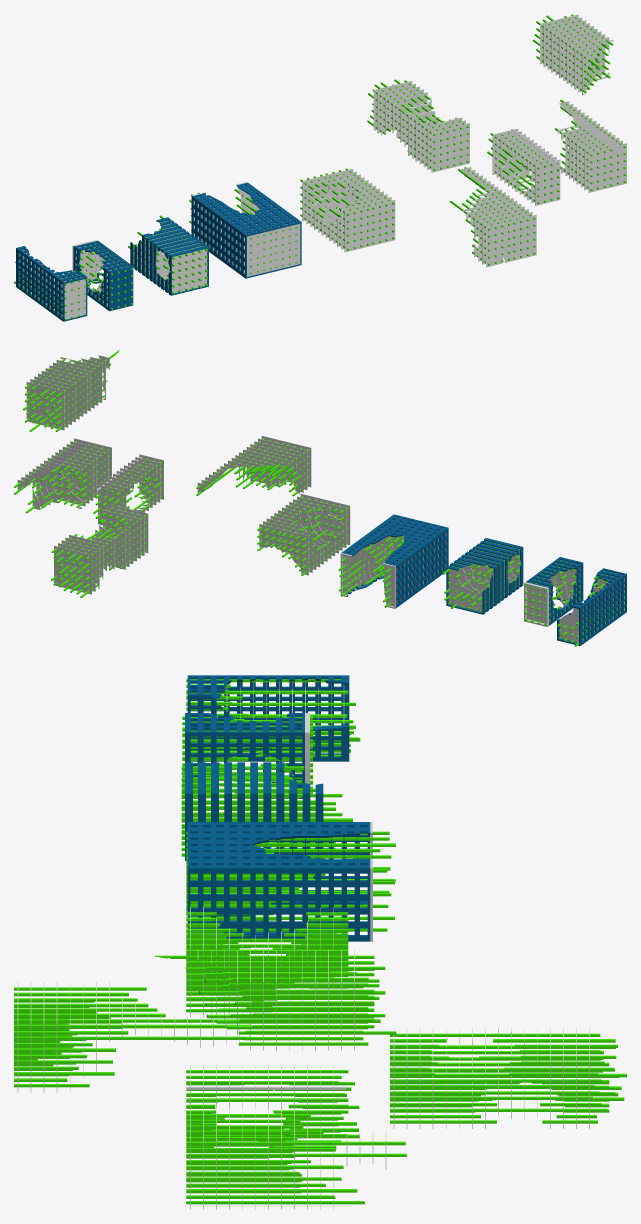
The model's file is Building Ruins.fbx.
3 renders of one model, top to bottom at view 1: azimuth 30°, elevation 25°; view 2: azimuth 150°, elevation 25°; view 3: azimuth 270°, elevation 25°, orthographic. The views are drawn at different scales.
Visible parts, largest first — view 1: Full Building 2 Ruin 1, Skeleton 2 Ruin 1, Skeleton 3 Ruin 1, Skeleton 4 Ruin 1, Full Building 4 Ruin 1, Skeleton 3 Ruin 3, Skeleton 3 Ruin 2, Skeleton 1 Ruin 1, Full Building 1 Ruin 1, Full Building 3 Ruin 1; view 2: Full Building 2 Ruin 1, Skeleton 3 Ruin 1, Skeleton 2 Ruin 1, Skeleton 3 Ruin 3, Full Building 4 Ruin 1, Skeleton 3 Ruin 2, Skeleton 4 Ruin 1, Full Building 1 Ruin 1, Full Building 3 Ruin 1, Skeleton 1 Ruin 1; view 3: Full Building 2 Ruin 1, Skeleton 3 Ruin 1, Skeleton 3 Ruin 3, Skeleton 3 Ruin 2, Skeleton 4 Ruin 1, Full Building 1 Ruin 1, Full Building 4 Ruin 1, Skeleton 2 Ruin 1, Skeleton 1 Ruin 1, Full Building 3 Ruin 1.
Boxes of the visible parts, x1,y1,x2,y2 form: Full Building 2 Ruin 1: [189, 182, 301, 278]; Skeleton 2 Ruin 1: [300, 168, 395, 252]; Skeleton 3 Ruin 1: [367, 79, 469, 172]; Skeleton 4 Ruin 1: [450, 167, 536, 267]; Full Building 4 Ruin 1: [128, 215, 208, 295]; Skeleton 3 Ruin 3: [533, 14, 613, 95]; Skeleton 3 Ruin 2: [555, 99, 626, 192]; Skeleton 1 Ruin 1: [487, 128, 560, 205]; Full Building 1 Ruin 1: [14, 246, 87, 321]; Full Building 3 Ruin 1: [72, 239, 133, 311]; Full Building 2 Ruin 1: [338, 514, 448, 608]; Skeleton 3 Ruin 1: [51, 504, 148, 597]; Skeleton 2 Ruin 1: [257, 493, 350, 575]; Skeleton 3 Ruin 3: [23, 350, 119, 431]; Full Building 4 Ruin 1: [442, 538, 523, 614]; Skeleton 3 Ruin 2: [14, 438, 111, 513]; Skeleton 4 Ruin 1: [196, 436, 311, 496]; Full Building 1 Ruin 1: [557, 568, 626, 646]; Full Building 3 Ruin 1: [524, 557, 583, 626]; Skeleton 1 Ruin 1: [93, 454, 163, 525]; Full Building 2 Ruin 1: [186, 822, 395, 941]; Skeleton 3 Ruin 1: [390, 1028, 626, 1128]; Skeleton 3 Ruin 3: [155, 950, 396, 1050]; Skeleton 3 Ruin 2: [186, 1109, 406, 1209]; Skeleton 4 Ruin 1: [14, 982, 251, 1092]; Full Building 1 Ruin 1: [186, 675, 360, 761]; Full Building 4 Ruin 1: [181, 762, 352, 860]; Skeleton 2 Ruin 1: [186, 907, 348, 1017]; Skeleton 1 Ruin 1: [186, 1064, 359, 1148]; Full Building 3 Ruin 1: [182, 713, 312, 798].
Size of the model in its own units: 42401 by 9701 by 23477.
